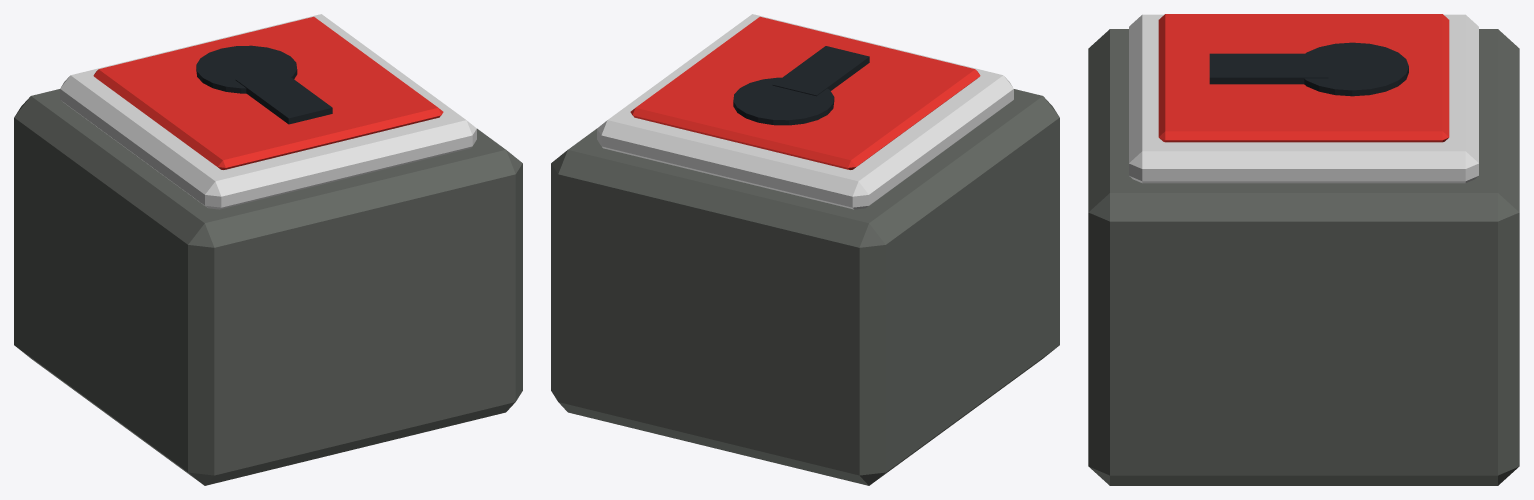
The model's file is door-red.glb.
3 views of the same model, side by side, from view 1: azimuth 30°, elevation 25°; view 2: azimuth 150°, elevation 25°; view 3: azimuth 270°, elevation 25° (orthographic). The views are drawn at different scales.
Parts seen in each view (by area): view 1: door-red; view 2: door-red; view 3: door-red.
Part boxes in pixels (<box>): door-red: <box>14,14,522,485</box>; door-red: <box>551,14,1059,485</box>; door-red: <box>1088,14,1519,485</box>.
Size of the model in its own units: 0.8 by 0.693 by 0.8.
